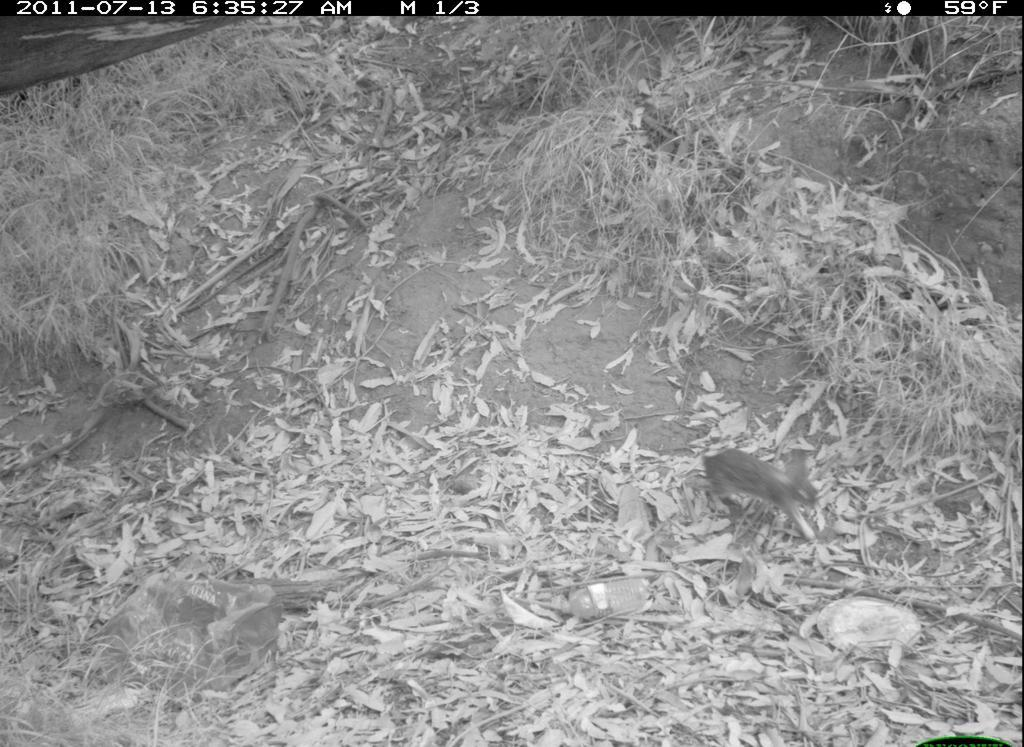rabbit: (701, 443, 825, 557)
